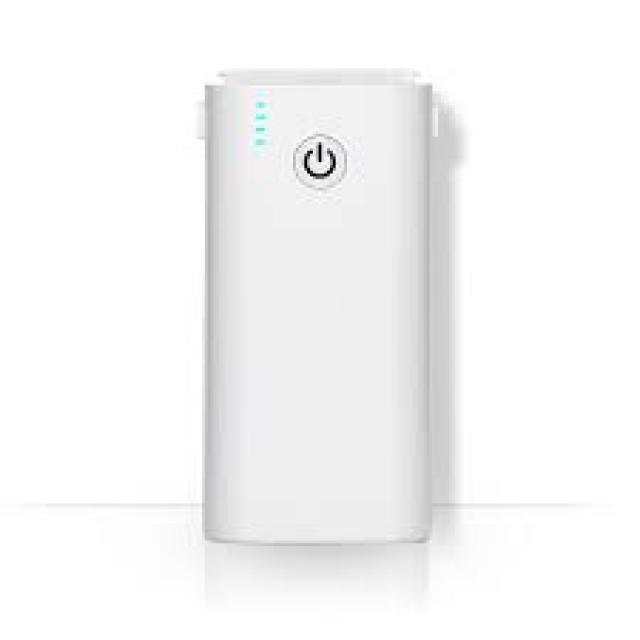portable-charger: (193, 60, 440, 554)
